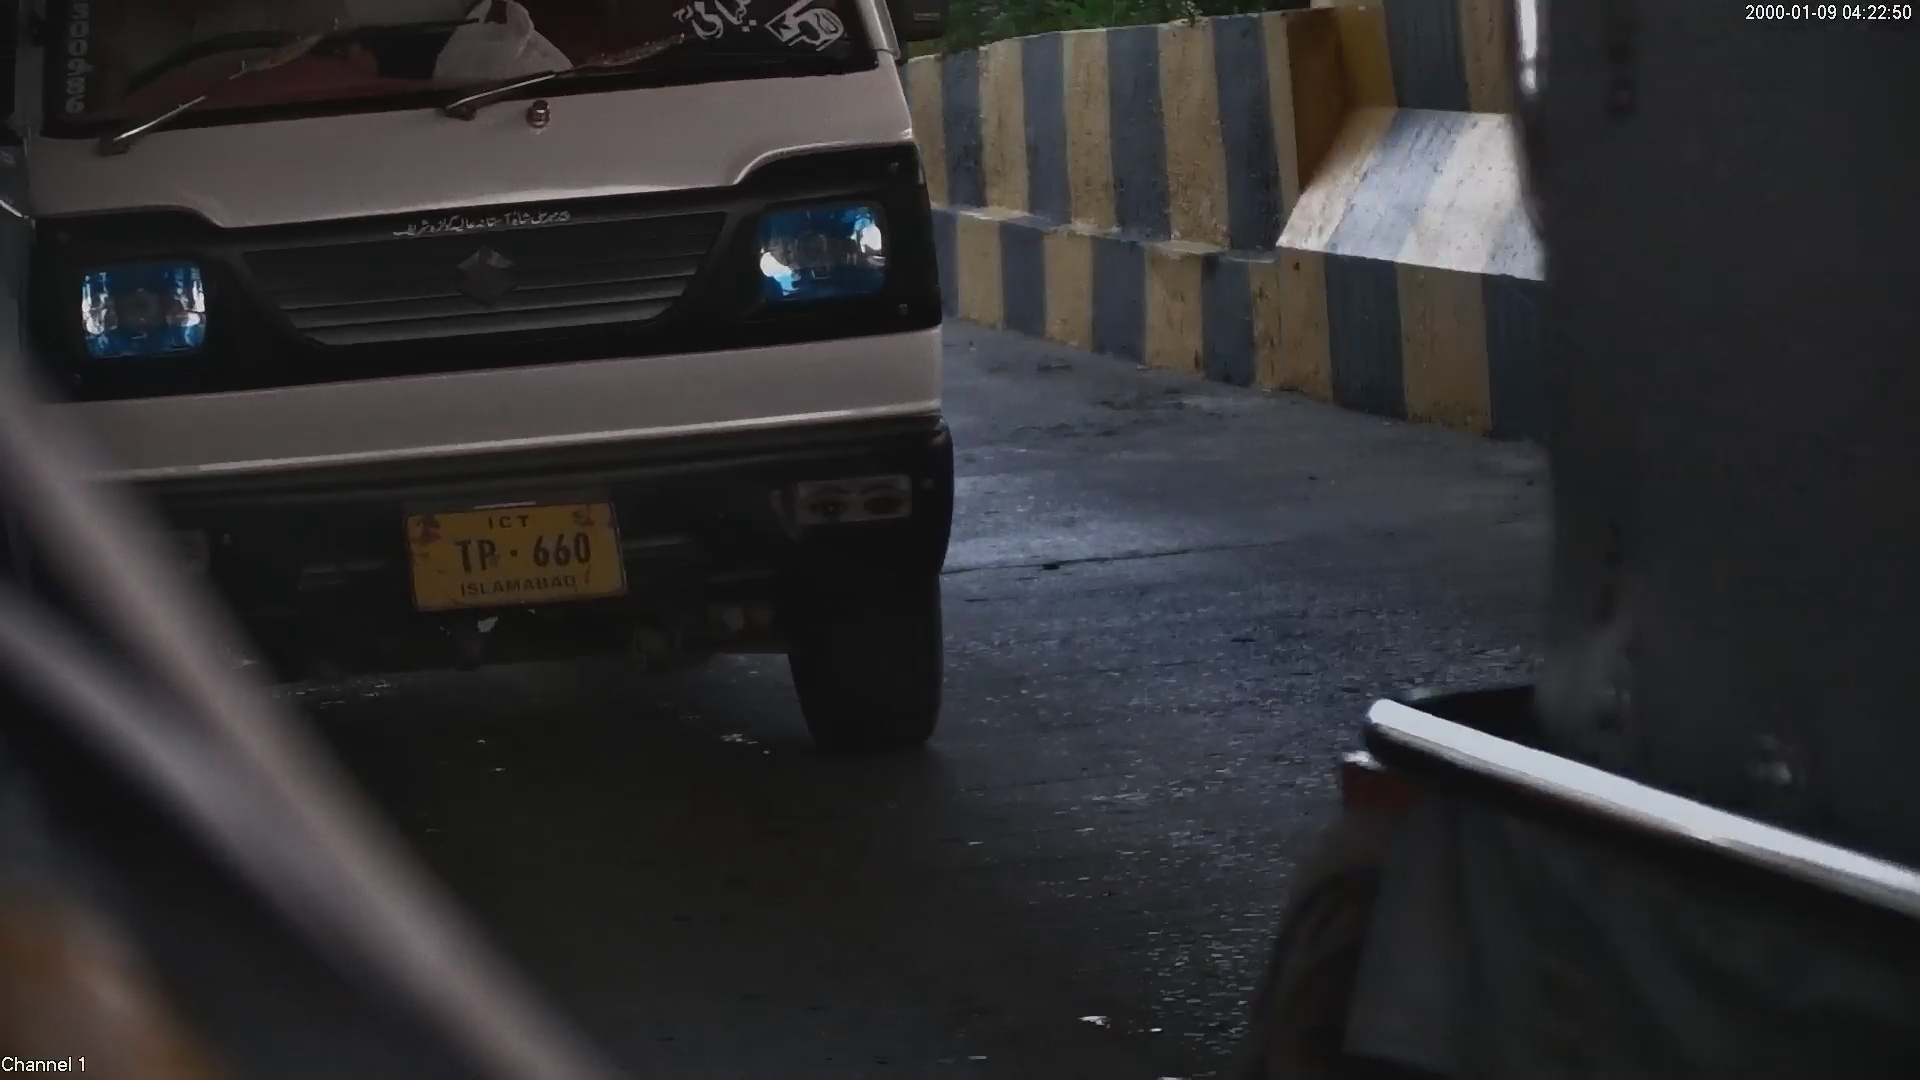Number_Plate: (393, 490, 637, 609)
Undefined: (30, 240, 223, 370), (732, 179, 900, 305), (780, 462, 917, 533), (373, 196, 587, 240)
